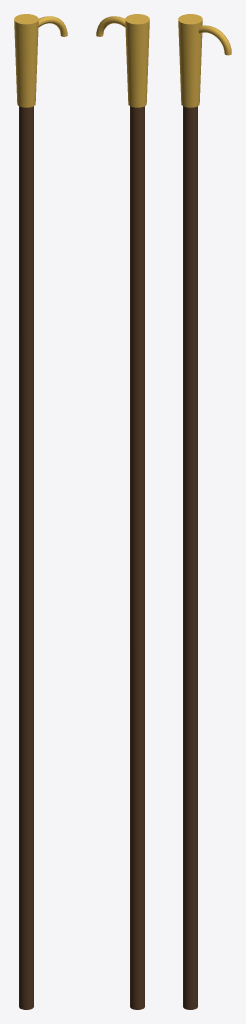
Rendered from weapon_lamplighter_pole.glb.
The picture shows the model from 3 angles, left to right: view 1: azimuth 30°, elevation 25°; view 2: azimuth 150°, elevation 25°; view 3: azimuth 330°, elevation 25°; orthographic projection.
Parts seen in each view (by area): view 1: Handle_Grip_Shaft, Brass_Lamp_Head, Gas_Shutoff_Hook; view 2: Handle_Grip_Shaft, Brass_Lamp_Head, Gas_Shutoff_Hook; view 3: Handle_Grip_Shaft, Brass_Lamp_Head, Gas_Shutoff_Hook.
Boxes of the visible parts, bbox=[...] form: Handle_Grip_Shaft: bbox=[19, 106, 33, 1009]; Brass_Lamp_Head: bbox=[14, 14, 38, 107]; Gas_Shutoff_Hook: bbox=[38, 16, 67, 36]; Handle_Grip_Shaft: bbox=[130, 106, 144, 1009]; Brass_Lamp_Head: bbox=[125, 14, 149, 107]; Gas_Shutoff_Hook: bbox=[96, 16, 125, 36]; Handle_Grip_Shaft: bbox=[183, 106, 197, 1009]; Brass_Lamp_Head: bbox=[178, 14, 202, 107]; Gas_Shutoff_Hook: bbox=[198, 25, 231, 55].
Bounding box in the file's own units: 0.096 × 1.75 × 0.04.
